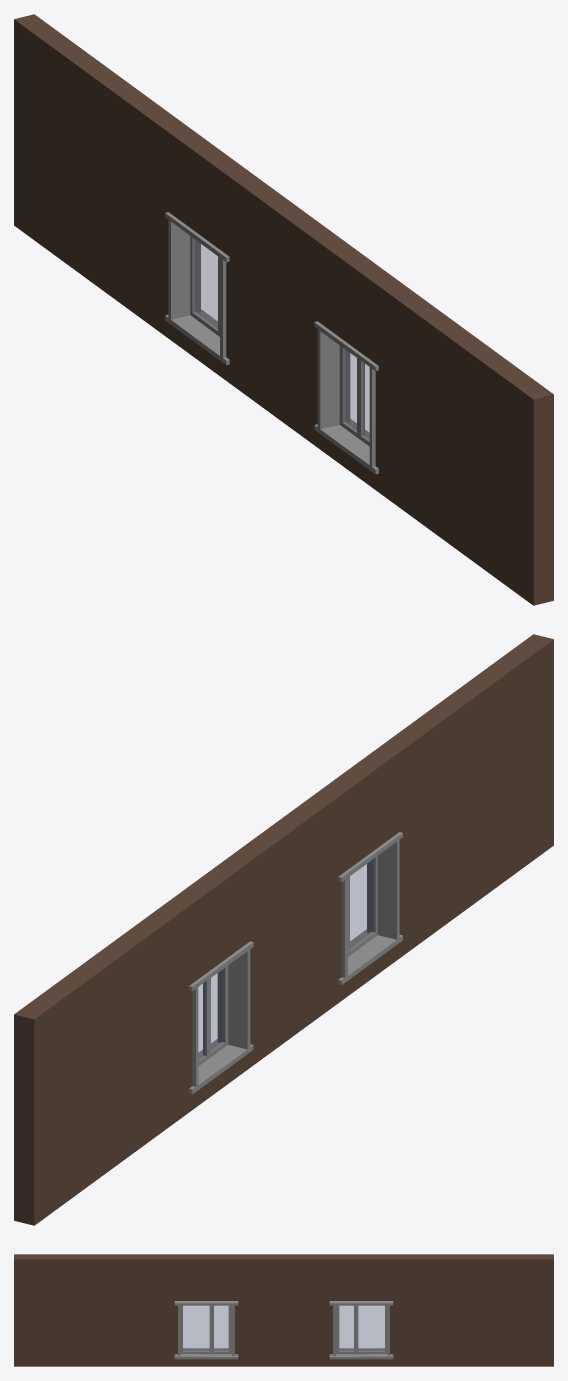
The picture shows the model from 3 angles, top to bottom: view 1: azimuth 30°, elevation 25°; view 2: azimuth 150°, elevation 25°; view 3: azimuth 270°, elevation 25°; orthographic projection. The views are drawn at different scales.
Parts seen in each view (by area): view 1: Wall_Outter_right_side_type1_002; view 2: Wall_Outter_right_side_type1_002; view 3: Wall_Outter_right_side_type1_002.
Part boxes in pixels (x1=…): Wall_Outter_right_side_type1_002: x1=14, y1=14, x2=553, y2=605; Wall_Outter_right_side_type1_002: x1=14, y1=634, x2=553, y2=1225; Wall_Outter_right_side_type1_002: x1=14, y1=1254, x2=553, y2=1366.
Size of the model in its own units: 47.75 by 280 by 1279.
